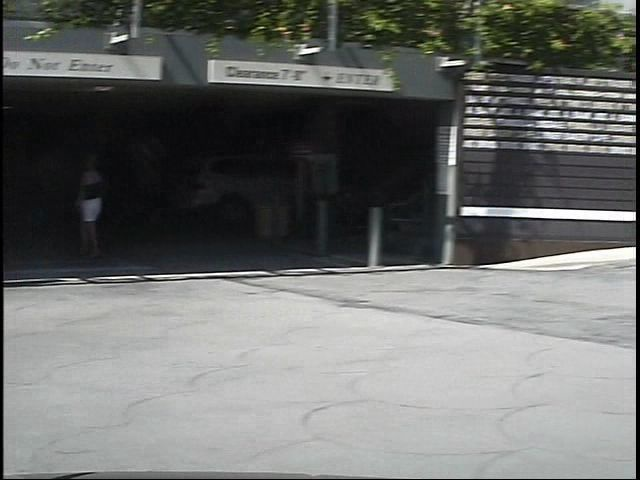person: (55, 147, 103, 269)
